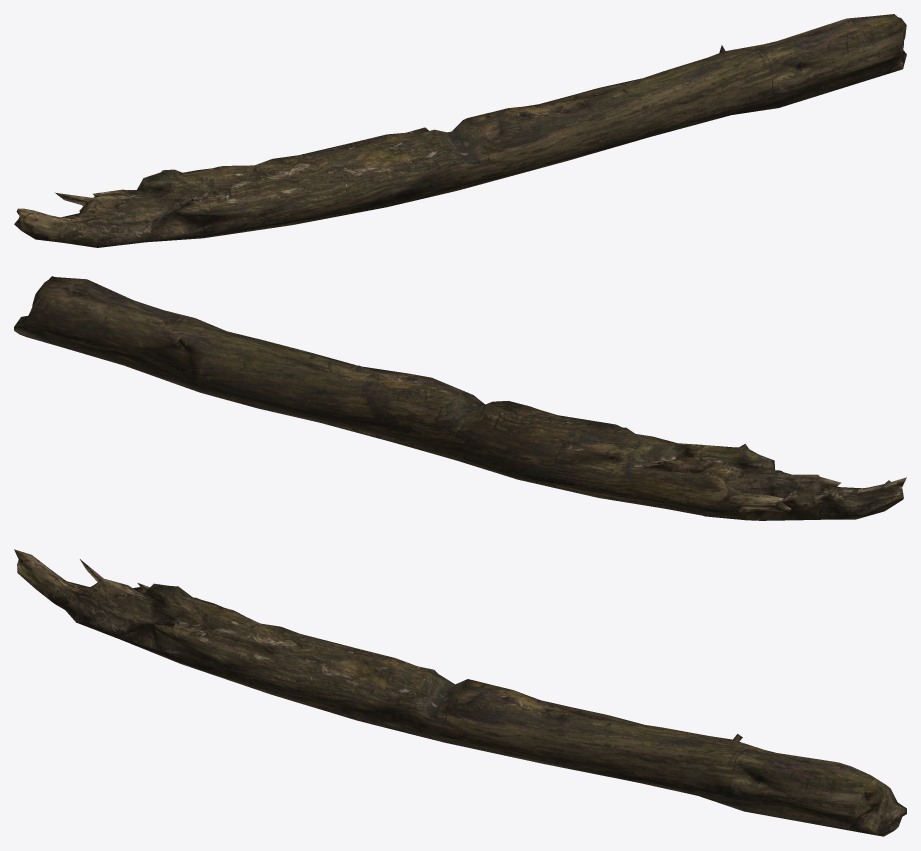
File: glb_deadtree.8d30bbb1.glb
3 views of the same model, one above another, from view 1: azimuth 30°, elevation 25°; view 2: azimuth 150°, elevation 25°; view 3: azimuth 330°, elevation 25° (orthographic).
Parts seen in each view (by area): view 1: dead_tree_trunk; view 2: dead_tree_trunk; view 3: dead_tree_trunk.
Boxes of the visible parts, left/top/right/bottom form: dead_tree_trunk: left=14, top=14, right=906, bottom=247; dead_tree_trunk: left=14, top=276, right=906, bottom=520; dead_tree_trunk: left=14, top=549, right=906, bottom=836.
Size of the model in its own units: 3.04 by 0.2869 by 0.2689.
Materials: 1 (1 with a texture image).
